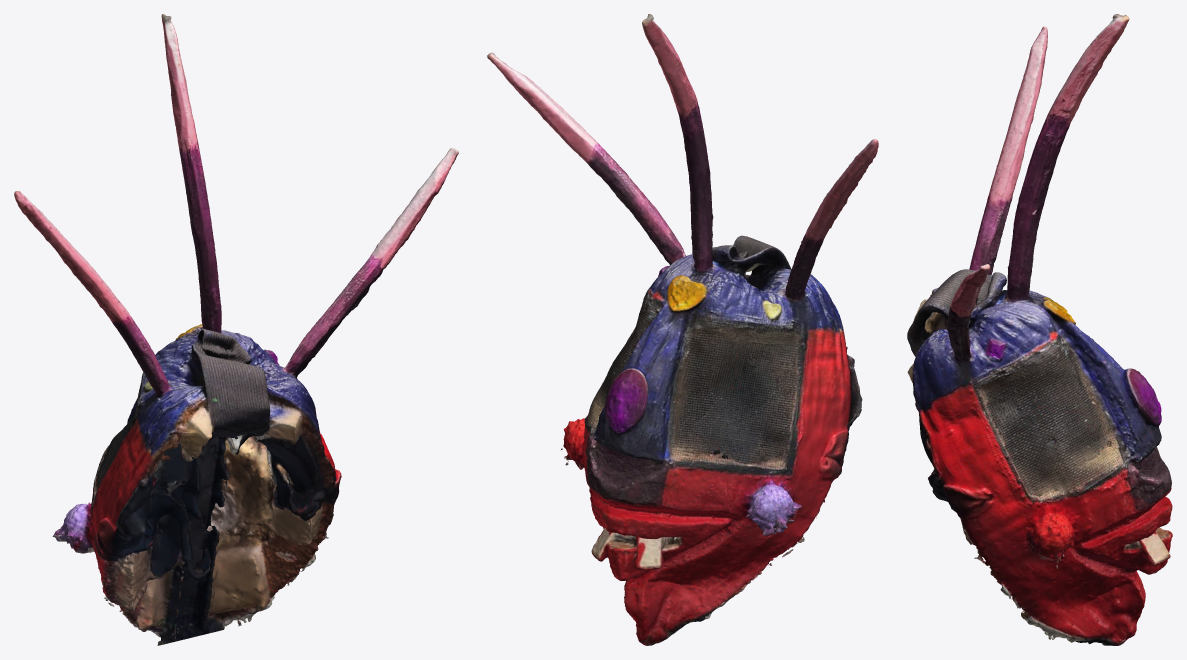
File: vejigante-mask-2.glb
The picture shows the model from 3 angles, left to right: view 1: azimuth 30°, elevation 25°; view 2: azimuth 150°, elevation 25°; view 3: azimuth 270°, elevation 25°; orthographic projection.
Parts seen in each view (by area): view 1: 3DModel; view 2: 3DModel; view 3: 3DModel.
Boxes of the visible parts, x1,y1,x2,y2 form: 3DModel: [14, 14, 458, 645]; 3DModel: [487, 14, 878, 645]; 3DModel: [907, 14, 1172, 645].
Bounding box in the file's own units: 12.22 × 17.5 × 6.7.
Materials: 1 (1 with a texture image).
